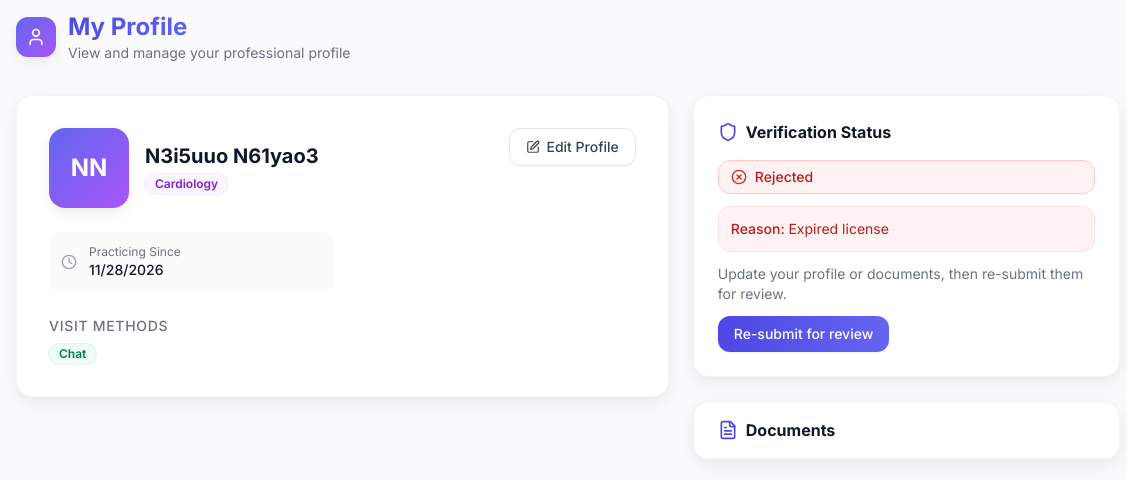
Test: DoctorProfileEnhancedPage verification status › should disable the button while re-submitting
Click the button "Re-submit for review". click: (804, 334)
box: top-left (718, 316), bottom-right (889, 352)
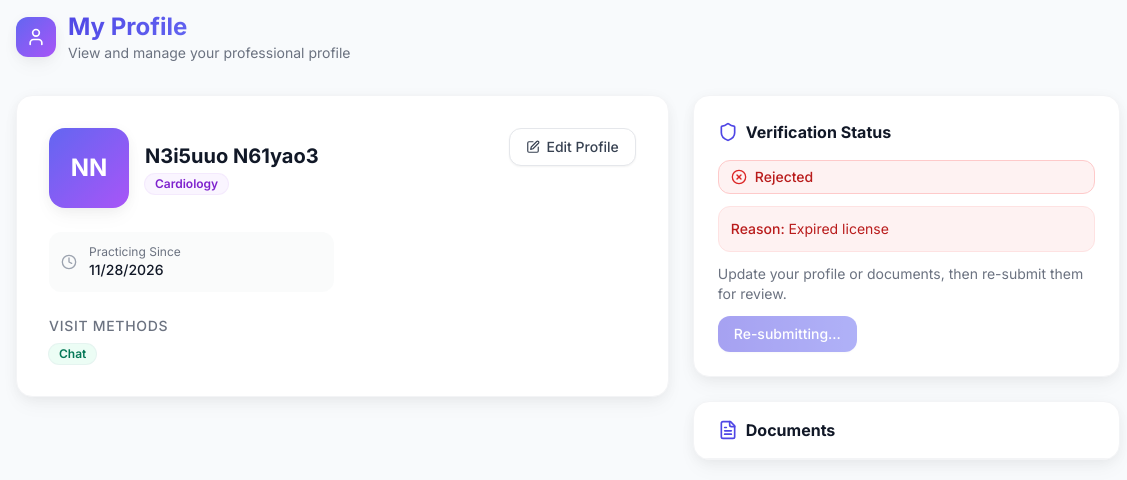
Result: the button "Re-submitting..." is disabled at top-left (718, 316), bottom-right (857, 352)
